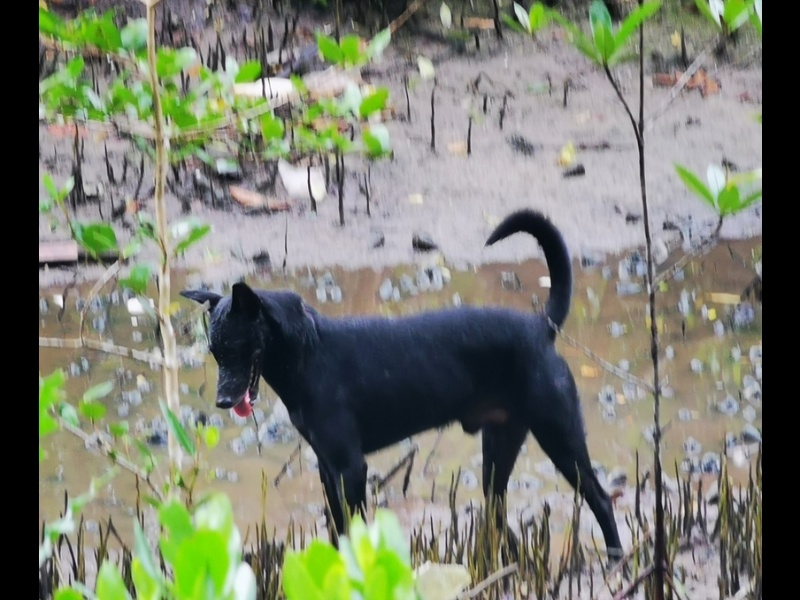dog: (178, 206, 637, 589)
